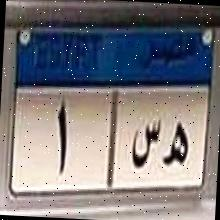1: (50, 96, 71, 176)
haa: (160, 114, 190, 179)
seen: (127, 112, 163, 182)
